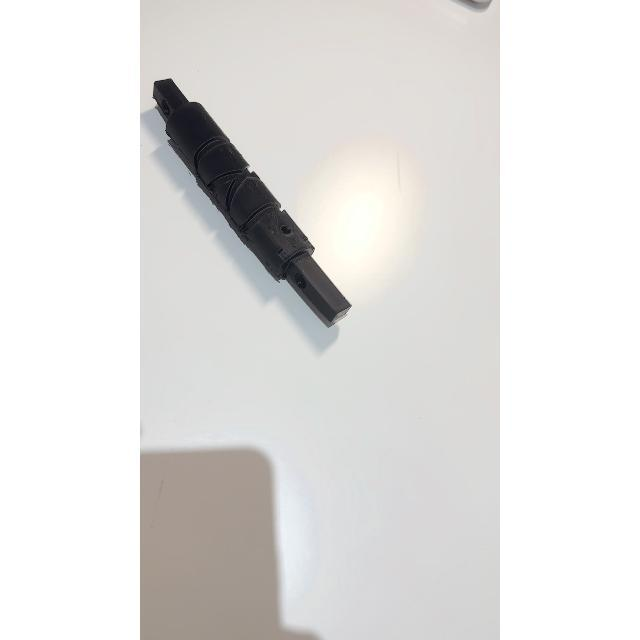Pieza1: (146, 72, 372, 344)
